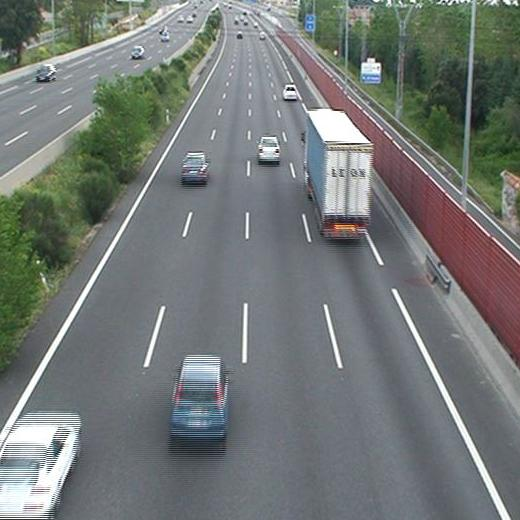car: (1, 413, 79, 520), (171, 358, 226, 439), (182, 152, 208, 182), (258, 137, 281, 161), (282, 85, 297, 100)
truck: (303, 111, 373, 237)
